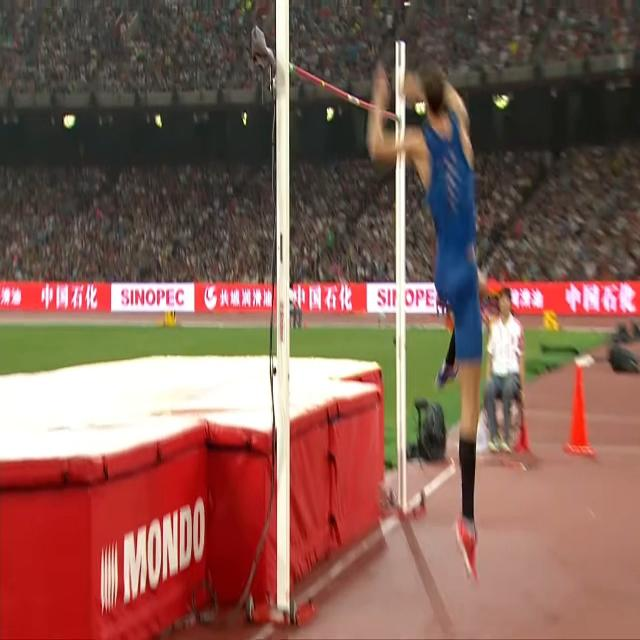jump: (368, 62, 482, 588)
